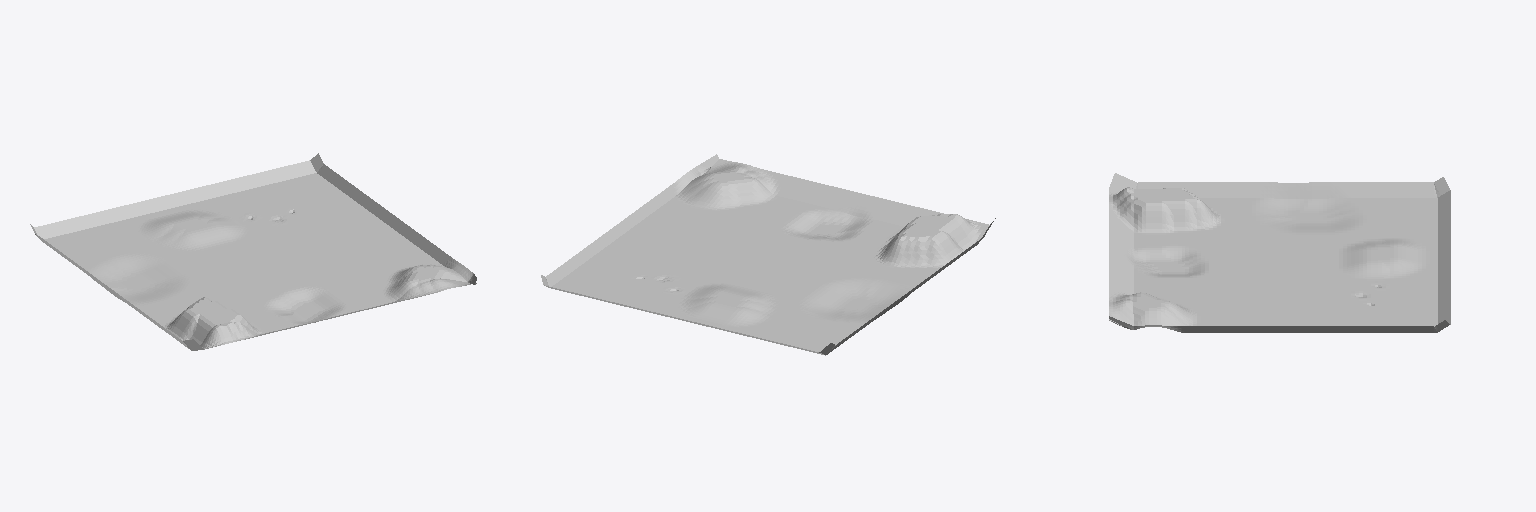
Rendered from outdoor1_texture2.obj.
3 views of the same model, side by side, from view 1: azimuth 30°, elevation 25°; view 2: azimuth 150°, elevation 25°; view 3: azimuth 270°, elevation 25° (orthographic).
Visible parts, largest first — view 1: Plane; view 2: Plane; view 3: Plane.
Boxes of the visible parts, box(x1,y1,x2,y2) form: Plane: box(30, 153, 476, 350); Plane: box(541, 154, 995, 355); Plane: box(1109, 173, 1450, 332).
Bounding box in the file's own units: 56.47 × 4.9 × 57.55.